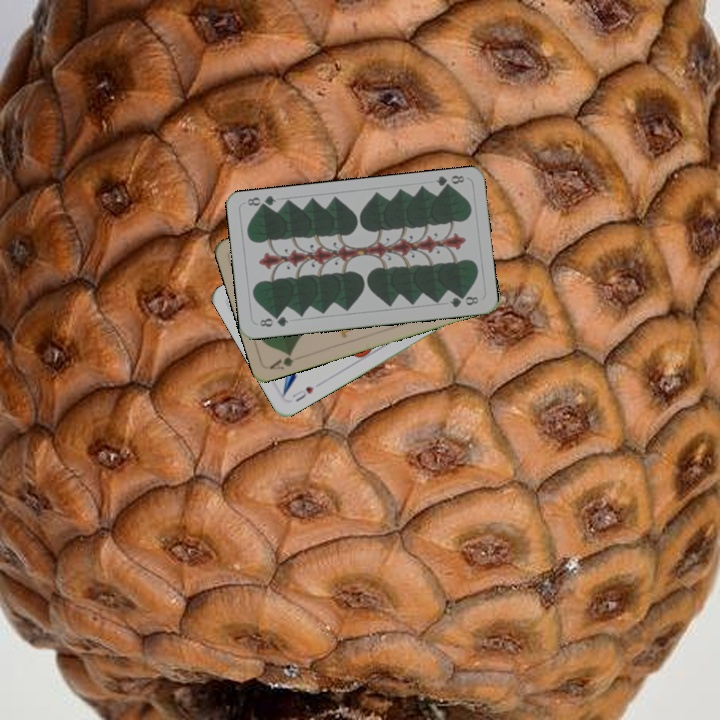G8: (432, 171, 467, 193), (255, 312, 291, 330)
GA: (266, 348, 296, 372)
HU: (288, 382, 317, 404)
